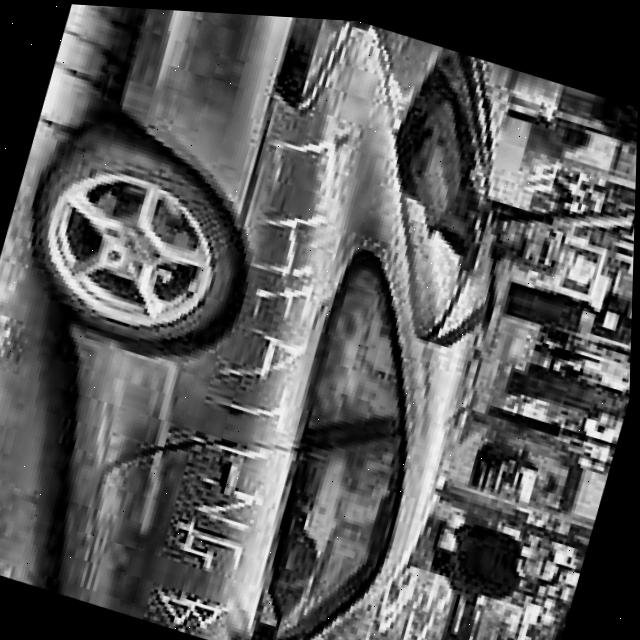door_scratch: (147, 106, 365, 640)
